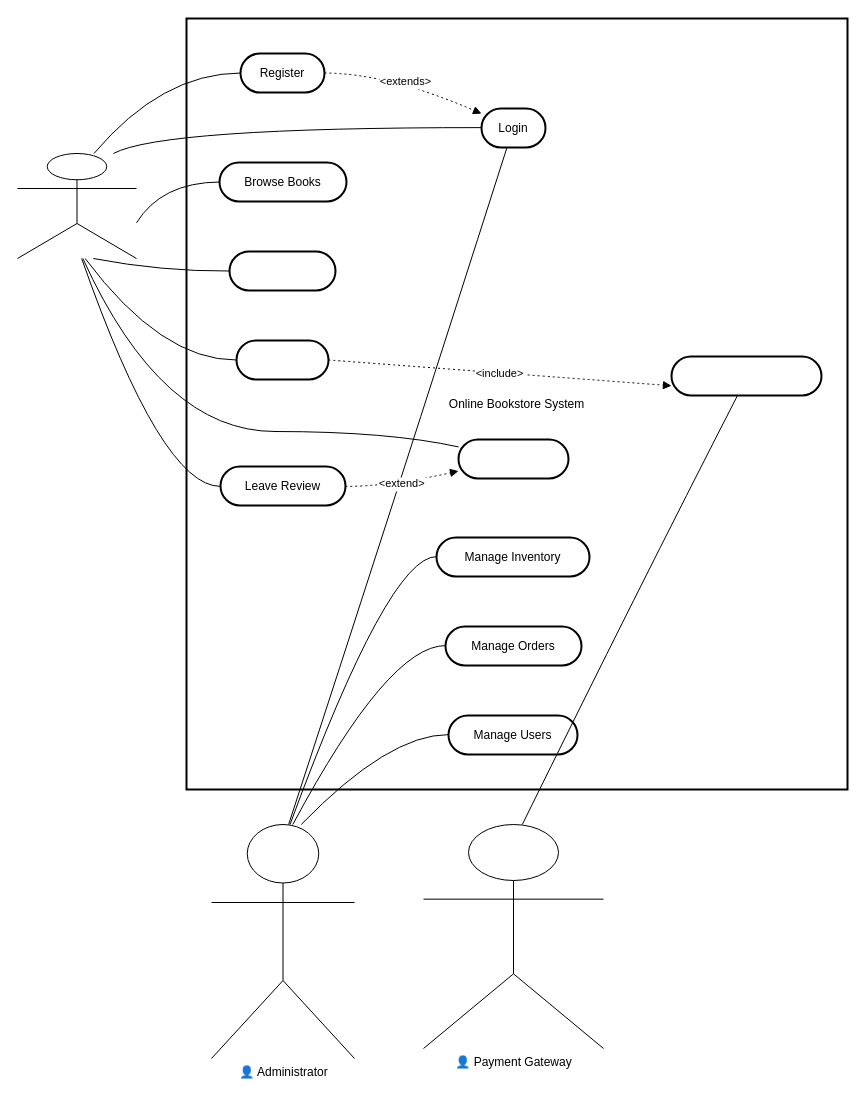
This 866x1096 diagram has some shape labels left out. Here are the shapes that lost their labels. From the top down, the box of each, then its label:
(16, 152, 136, 258): 👤 Customer
(228, 250, 336, 291): Add to Cart
(235, 339, 329, 380): Checkout
(670, 355, 822, 396): Process Payment
(457, 438, 569, 479): Track Order
